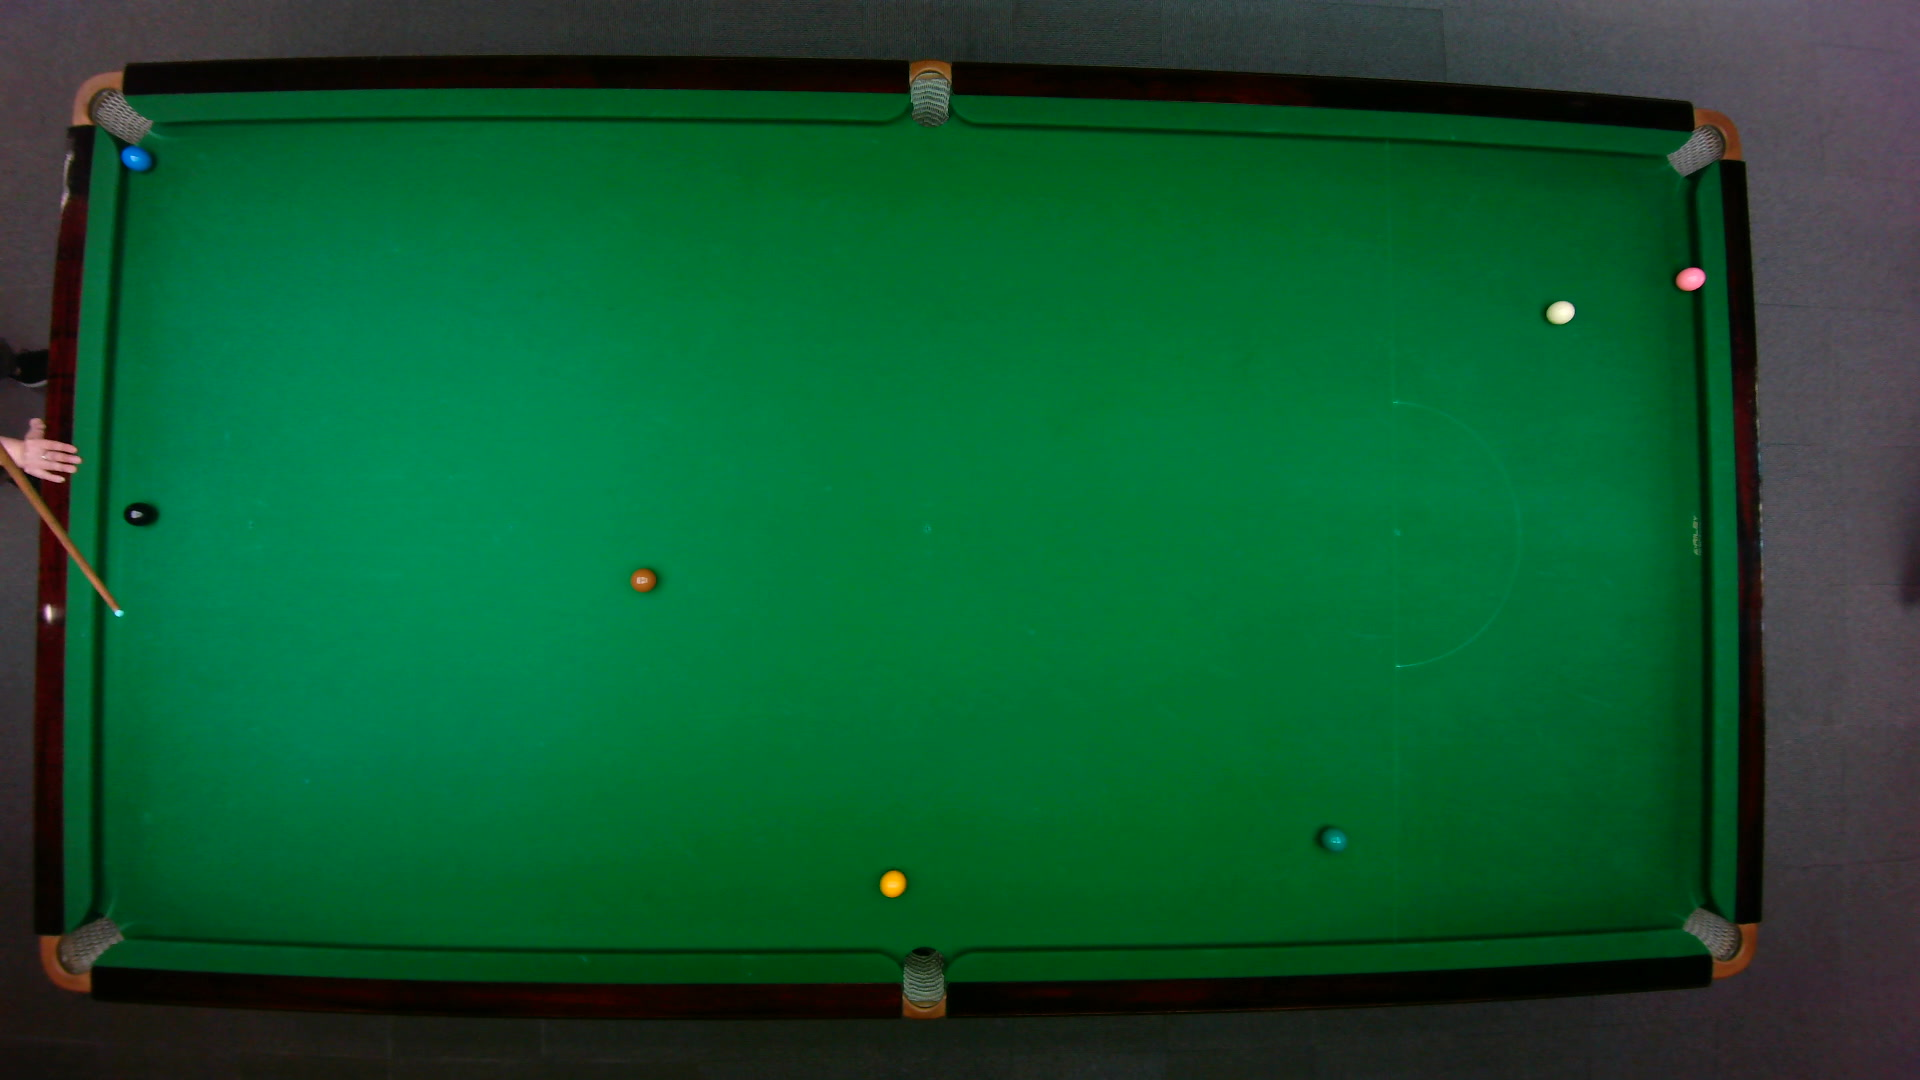bag: (38, 914, 125, 993), (69, 69, 152, 145), (1679, 905, 1756, 978), (1663, 107, 1741, 177), (901, 944, 944, 1021), (909, 57, 949, 128)
black: (121, 500, 154, 526)
blue: (117, 144, 152, 171)
brown: (628, 566, 657, 592)
cue: (0, 438, 128, 618)
green: (1317, 825, 1348, 852)
pink: (1673, 264, 1706, 291)
white: (1543, 298, 1576, 324)
yellow: (877, 866, 907, 898)
zone: (1391, 400, 1520, 667)
